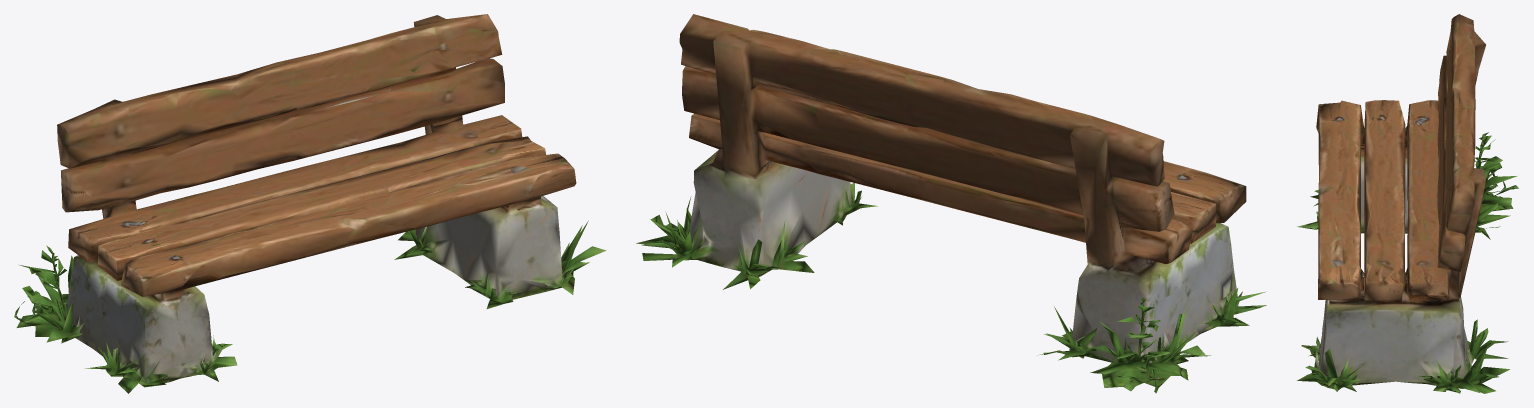
File: env_bench.glb
3 views of the same model, side by side, from view 1: azimuth 30°, elevation 25°; view 2: azimuth 150°, elevation 25°; view 3: azimuth 270°, elevation 25° (orthographic). The views are drawn at different scales.
Visible parts, largest first — view 1: tripo_node_807233d8-cff5-4e05-9929-6408e71a3807; view 2: tripo_node_807233d8-cff5-4e05-9929-6408e71a3807; view 3: tripo_node_807233d8-cff5-4e05-9929-6408e71a3807.
Part boxes in pixels (x1,y1,x2,y2): tripo_node_807233d8-cff5-4e05-9929-6408e71a3807: (14,14,606,393); tripo_node_807233d8-cff5-4e05-9929-6408e71a3807: (636,14,1266,393); tripo_node_807233d8-cff5-4e05-9929-6408e71a3807: (1297,14,1518,393).
Bounding box in the file's own units: 0.9767 × 0.3974 × 0.4117.
Materials: 1 (1 with a texture image).
